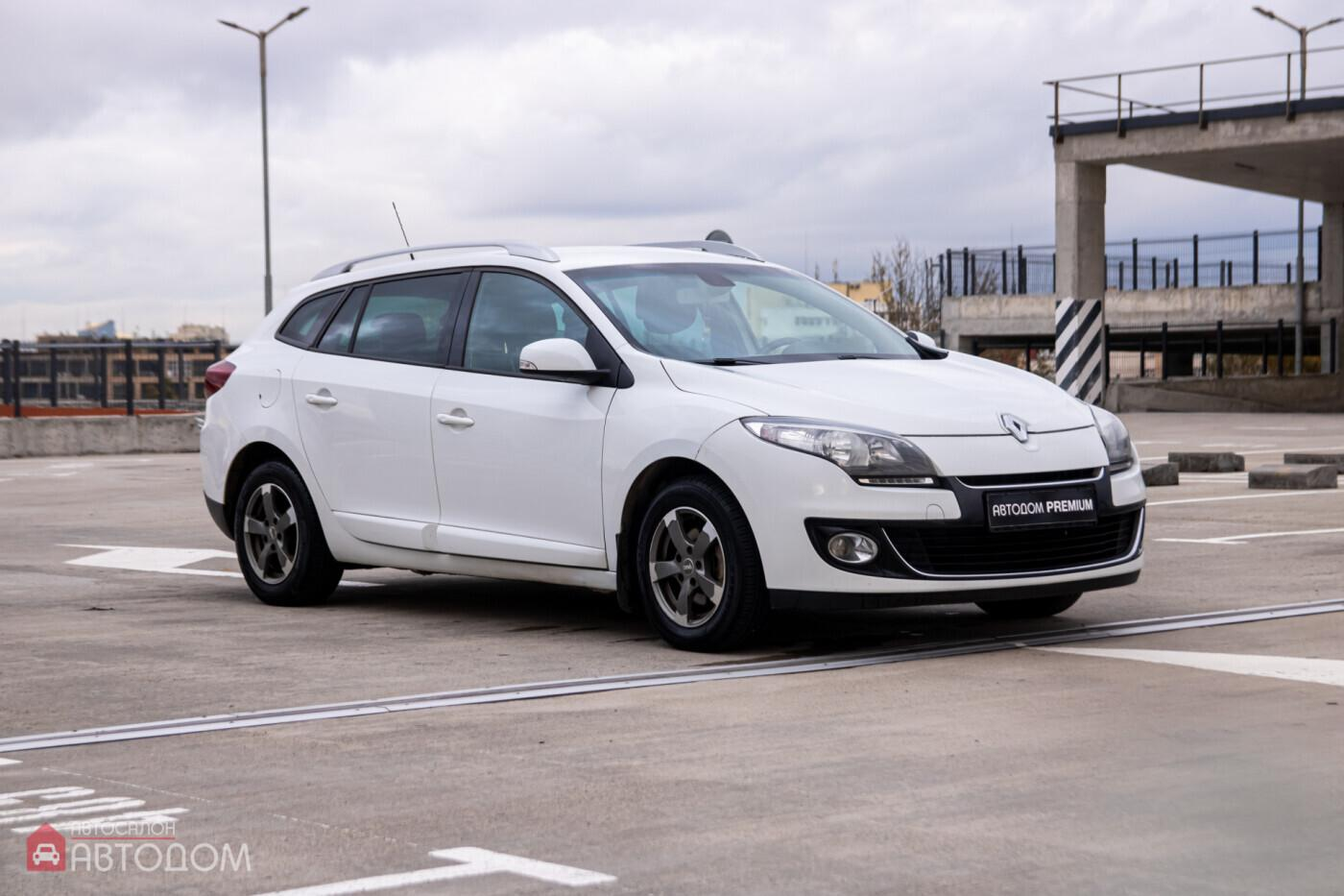Megane_2012-2014: (198, 240, 1151, 640)
